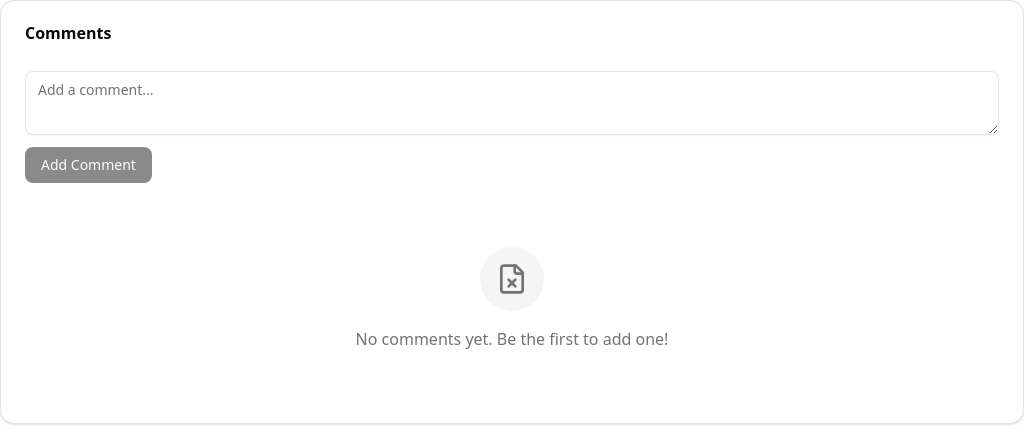
Comments › shows loading state while submitting comment
Step 1. Type "New comment" into the text box with placeholder "Add a comment..." → (512, 103), box [25,71,999,135]
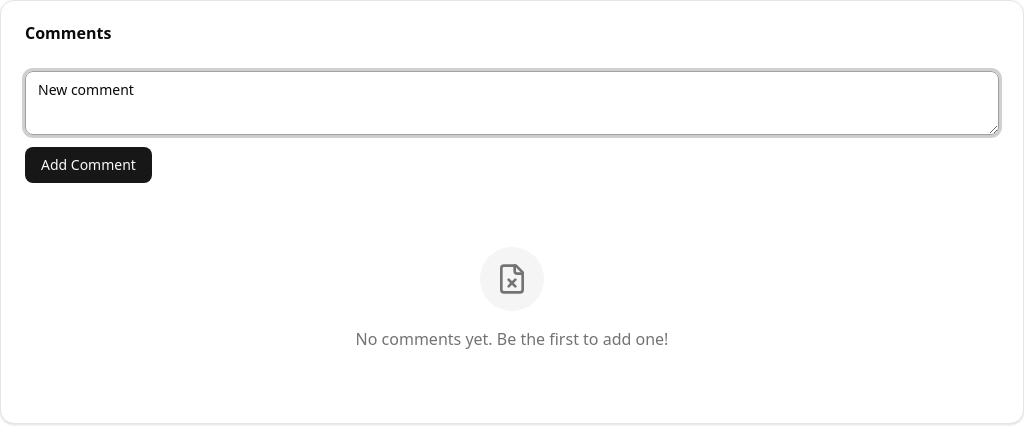
Step 2. Click the button "Add Comment" → (88, 165), box [25,147,152,183]
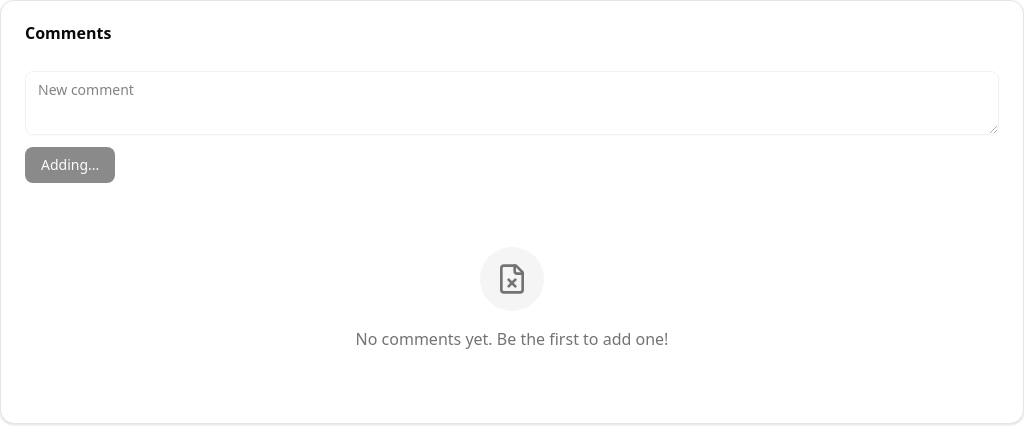
Expected: the button "Adding..." is shown, [25,147,115,183]
